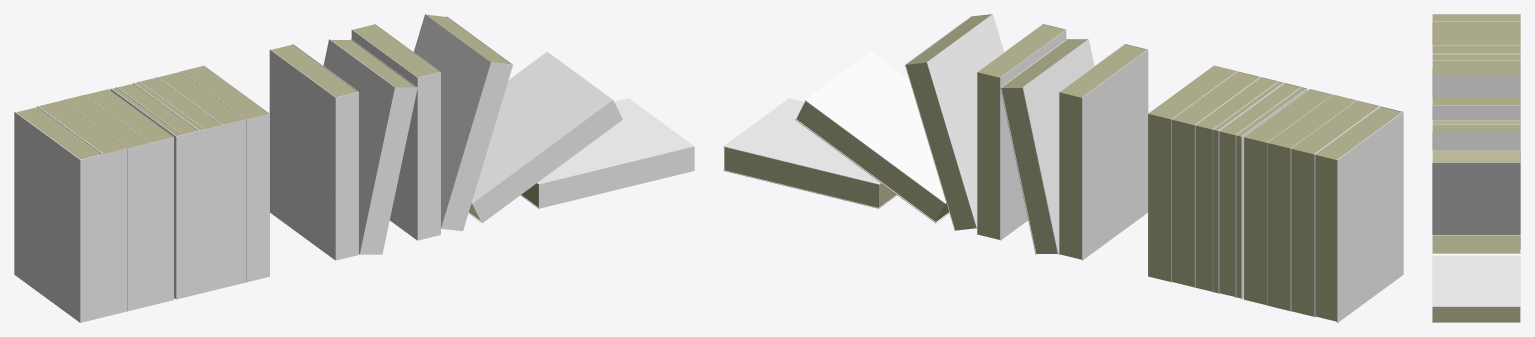
Rendered from books.fbx.
The picture shows the model from 3 angles, left to right: view 1: azimuth 30°, elevation 25°; view 2: azimuth 150°, elevation 25°; view 3: azimuth 270°, elevation 25°; orthographic projection. The views are drawn at different scales.
Parts seen in each view (by area): view 1: Book0.002, Book0.001, Book3, Book2, Book0, Book4, Book1, Book1.001, Book4.001, Book2.002, Book3.002, Book1.002 (+3 smaller); view 2: Book0.002, Book0.001, Book3, Book2, Book0, Book4, Book1, Book1.001, Book4.001, Book2.002, Book1.002, Book3.002 (+3 smaller); view 3: Book2, Book4, Book4.001, Book1, Book0.001, Book3, Book3.001, Book1.002, Book3.002, Book1.001, Book2.001, Book0.002 (+3 smaller).
Boxes of the visible parts, box(x1,y1,x2,y2) form: Book0.002: box(14, 106, 103, 322); Book0.001: box(269, 44, 358, 260); Book3: box(468, 51, 622, 223); Book2: box(413, 14, 512, 231); Book0: box(323, 39, 417, 254); Book4: box(520, 98, 694, 208); Book1: box(351, 24, 440, 240); Book1.001: box(110, 82, 199, 299); Book4.001: box(181, 65, 269, 282); Book2.002: box(61, 94, 150, 311); Book3.002: box(85, 89, 173, 305); Book1.002: box(38, 100, 126, 316); Book0.002: box(1314, 106, 1403, 322); Book0.001: box(1059, 44, 1148, 260); Book3: box(795, 51, 949, 223); Book2: box(905, 14, 1004, 230); Book0: box(1000, 39, 1094, 254); Book4: box(723, 98, 897, 208); Book1: box(977, 24, 1066, 240); Book1.001: box(1218, 82, 1307, 299); Book4.001: box(1148, 65, 1236, 281); Book2.002: box(1267, 94, 1356, 311); Book1.002: box(1291, 100, 1379, 316); Book3.002: box(1244, 89, 1332, 305); Book2: box(1432, 150, 1520, 249); Book4: box(1432, 255, 1520, 322); Book4.001: box(1432, 68, 1520, 97); Book1: box(1432, 124, 1520, 149); Book0.001: box(1432, 97, 1520, 119); Book3: box(1432, 235, 1520, 253); Book3.001: box(1432, 60, 1520, 68); Book1.002: box(1432, 21, 1520, 29); Book3.002: box(1432, 37, 1520, 45); Book1.001: box(1432, 45, 1520, 52); Book2.001: box(1432, 53, 1520, 60); Book0.002: box(1432, 14, 1520, 21).
Bounding box in the file's own units: 118 × 31.02 × 22.
